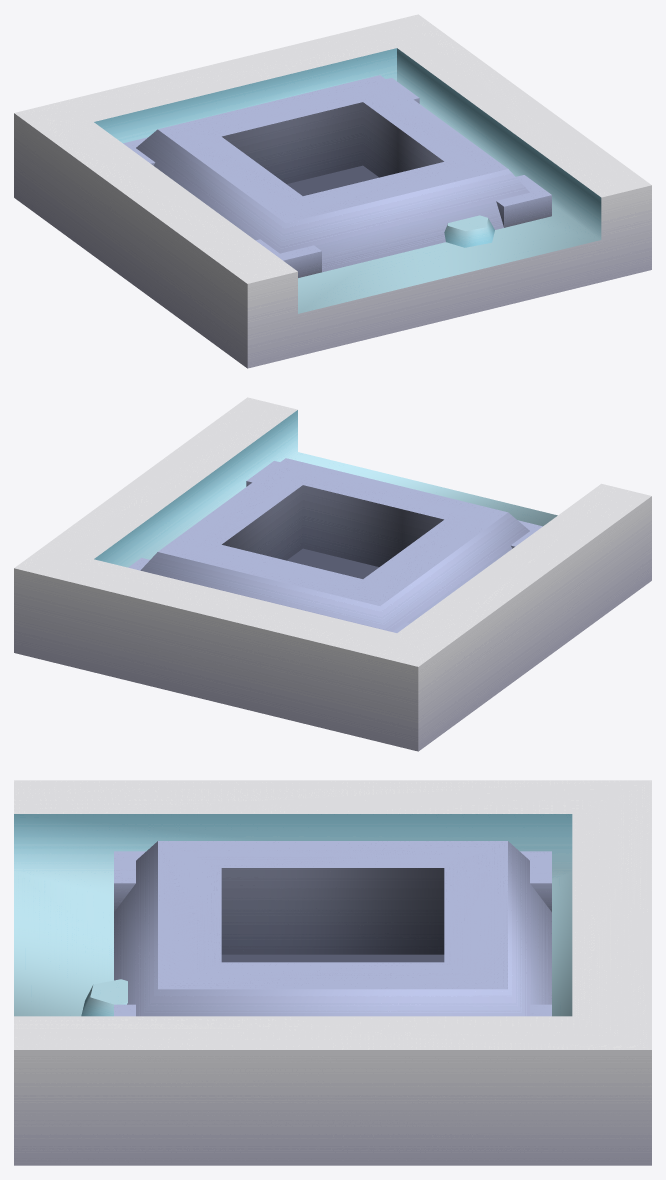
File: snow-tile-spawn-end.glb
3 renders of one model, top to bottom at view 1: azimuth 30°, elevation 25°; view 2: azimuth 150°, elevation 25°; view 3: azimuth 270°, elevation 25°, orthographic. The views are drawn at different scales.
Visible parts, largest first — view 1: snow-tile-spawn-end; view 2: snow-tile-spawn-end; view 3: snow-tile-spawn-end.
Boxes of the visible parts, left/top/right/bottom form: snow-tile-spawn-end: left=14, top=14, right=651, bottom=368; snow-tile-spawn-end: left=14, top=397, right=651, bottom=751; snow-tile-spawn-end: left=14, top=780, right=651, bottom=1165.
Size of the model in its own units: 3 by 0.6 by 3.
1 material, 1 textured.
